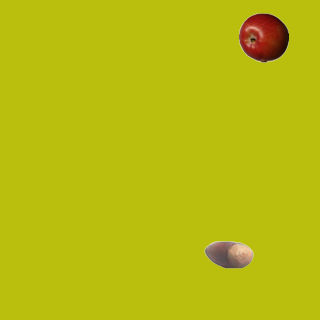Apple Braeburn: (238, 12, 288, 62)
Hazelnut: (203, 229, 253, 279)
